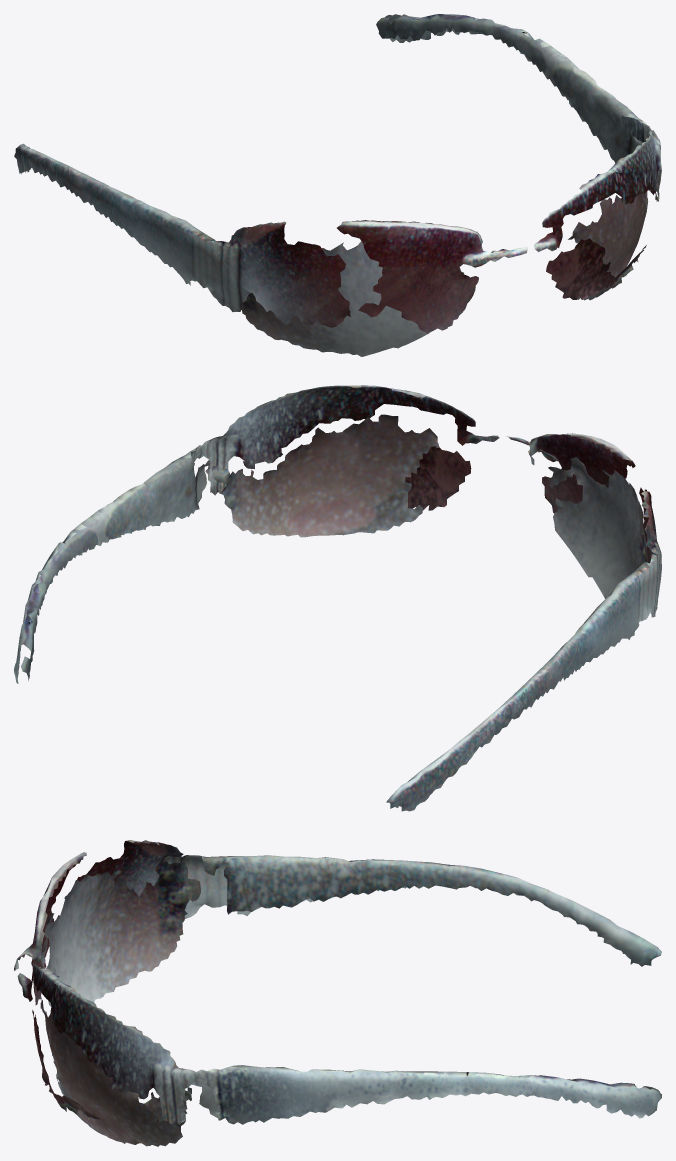
Rendered from scan_align.obj.
3 views of the same model, one above another, from view 1: azimuth 30°, elevation 25°; view 2: azimuth 150°, elevation 25°; view 3: azimuth 270°, elevation 25° (orthographic). The views are drawn at different scales.
Bounding box in the file's own units: 0.1426 × 0.0414 × 0.1655.
1 material, 1 textured.
